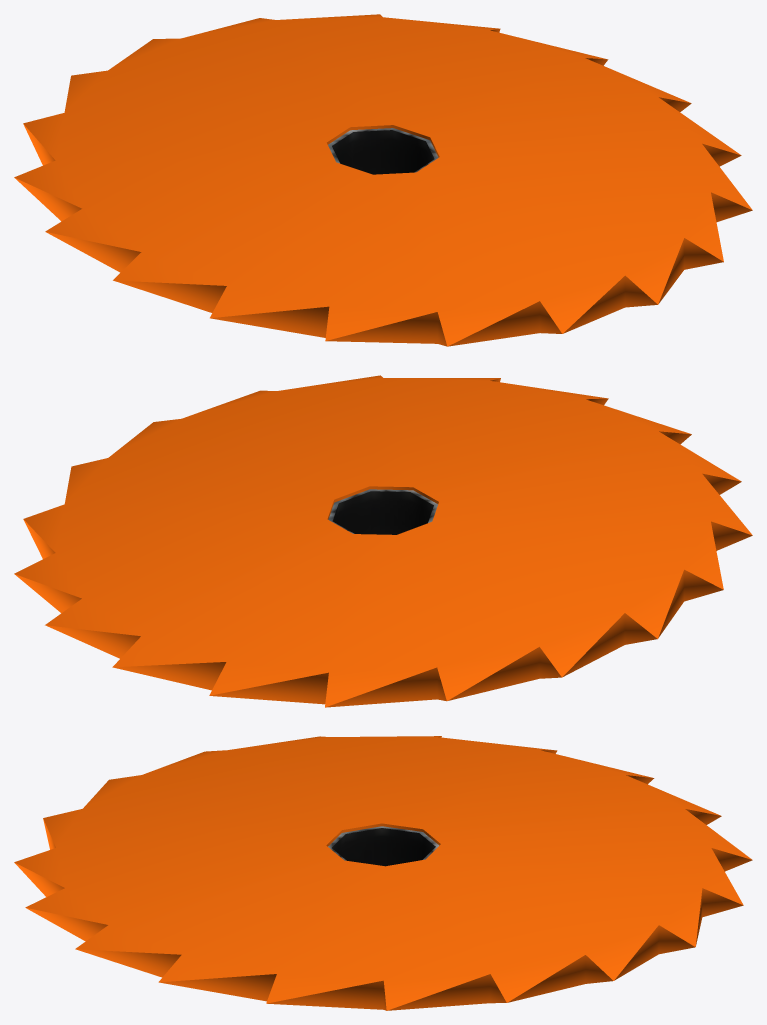
Rendered from Sawblade Launcher Overheat.glb.
3 renders of one model, top to bottom at view 1: azimuth 30°, elevation 25°; view 2: azimuth 150°, elevation 25°; view 3: azimuth 270°, elevation 25°, orthographic. The views are drawn at different scales.
Visible parts, largest first — view 1: Blade (1), Blade; view 2: Blade (1), Blade; view 3: Blade (1), Blade.
Boxes of the visible parts, x1,y1,x2,y2 form: Blade (1): (14, 14, 752, 346); Blade: (328, 128, 438, 174); Blade (1): (14, 375, 752, 707); Blade: (328, 489, 437, 534); Blade (1): (14, 736, 752, 1010); Blade: (328, 826, 439, 866).
Bounding box in the file's own units: 1.16 × 0.1089 × 1.31.
2 materials, 2 textured.
